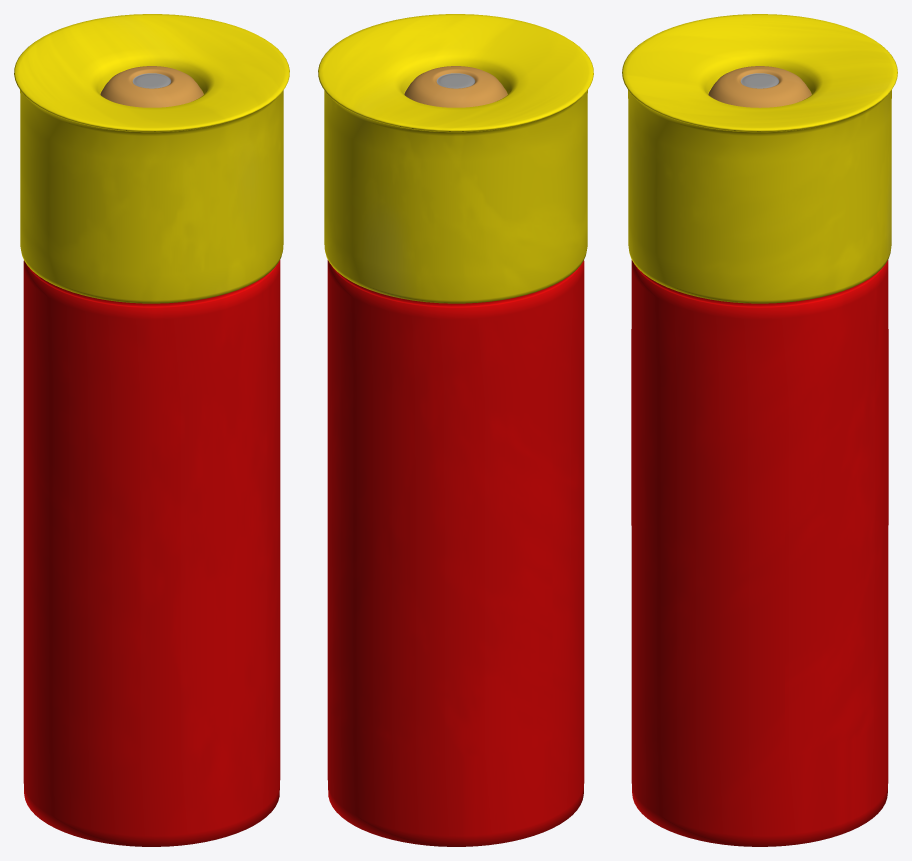
File: shotgun_shell.glb
The picture shows the model from 3 angles, left to right: view 1: azimuth 30°, elevation 25°; view 2: azimuth 150°, elevation 25°; view 3: azimuth 270°, elevation 25°; orthographic projection.
Parts seen in each view (by area): view 1: Cylinder; view 2: Cylinder; view 3: Cylinder.
Boxes of the visible parts, x1=… form: Cylinder: x1=14, y1=14, x2=289, y2=846; Cylinder: x1=318, y1=14, x2=593, y2=846; Cylinder: x1=622, y1=14, x2=897, y2=846.
Bounding box in the file's own units: 17.07 × 49.22 × 17.07.
Materials: 4 (4 with a texture image).
